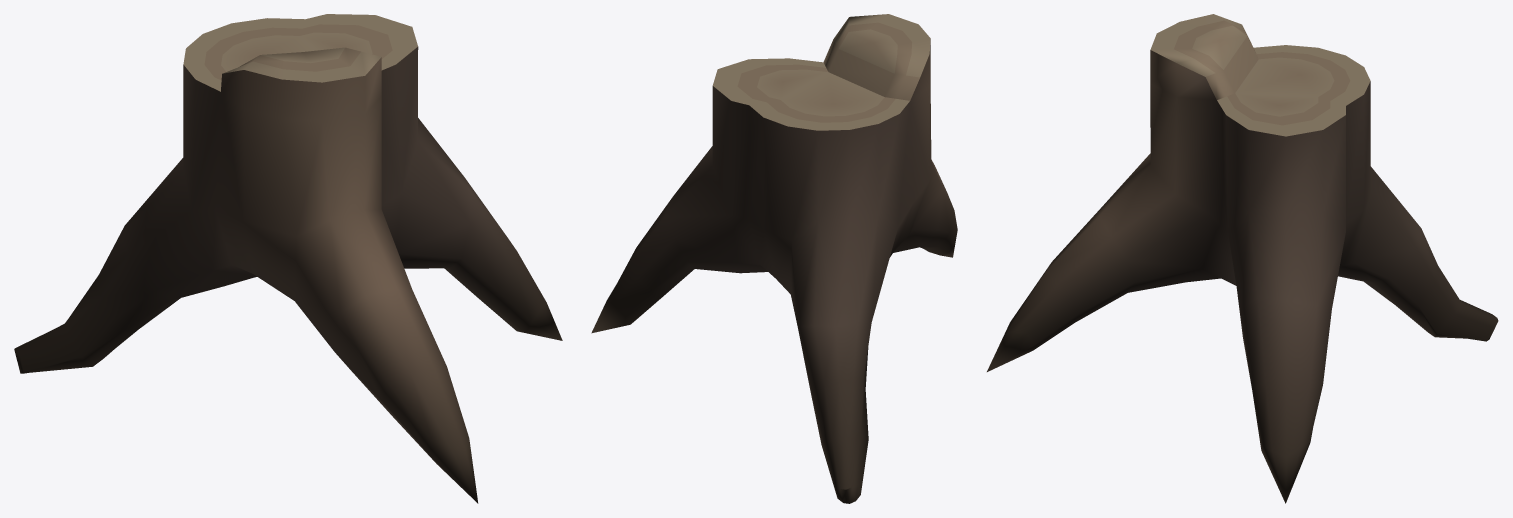
File: trees-dead-trees-wood-tree-stump_v3.glb
3 renders of one model, left to right at view 1: azimuth 30°, elevation 25°; view 2: azimuth 150°, elevation 25°; view 3: azimuth 270°, elevation 25°, orthographic. The views are drawn at different scales.
Parts seen in each view (by area): view 1: Tree Stump_v3; view 2: Tree Stump_v3; view 3: Tree Stump_v3.
Part boxes in pixels (x1,y1,x2,y2): Tree Stump_v3: (14,14,562,503); Tree Stump_v3: (591,14,957,503); Tree Stump_v3: (987,14,1498,503).
Bounding box in the file's own units: 0.6724 × 0.6026 × 0.8.
